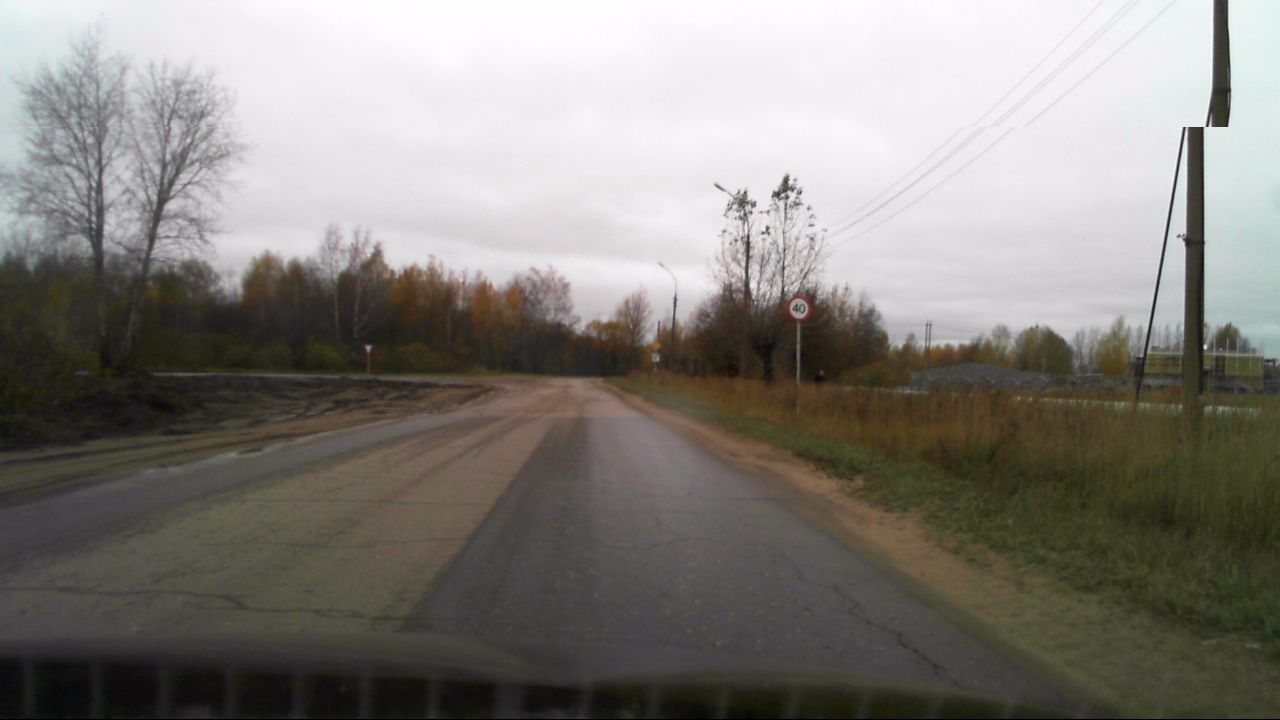speed_warning_40: (787, 297, 809, 320)
